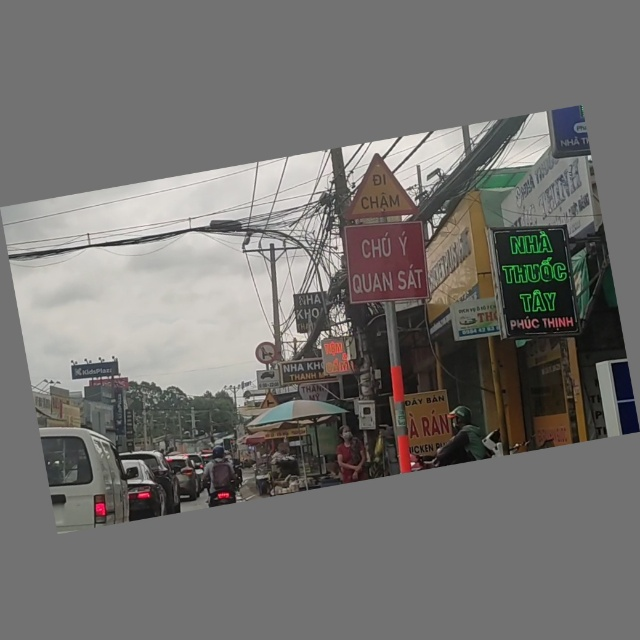P.139: (253, 339, 283, 370)
S.505a*Xe tai: (256, 370, 280, 391)
W.205b: (258, 389, 281, 411)
W.245a: (335, 148, 425, 229)
